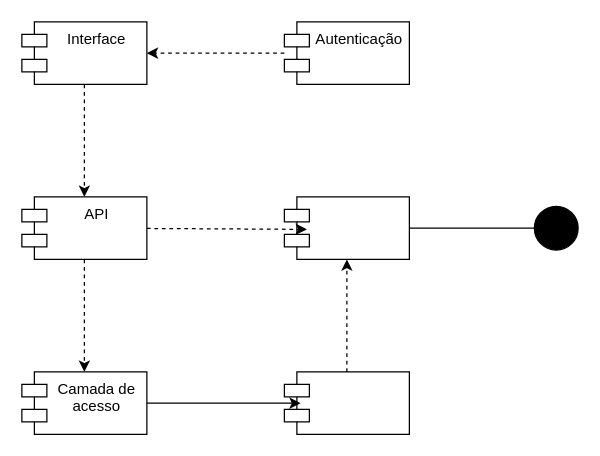
Some shapes in this 600 by 456 pixel diagram are drawn without their labels. The box of each missing label's shape, as (x1, y1, x2, y2) in pixels:
API pública: (283, 196, 409, 259)
Banco de dados: (283, 371, 409, 434)
